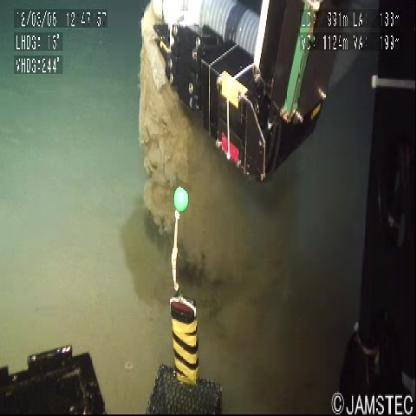Rác: (140, 5, 188, 216)
